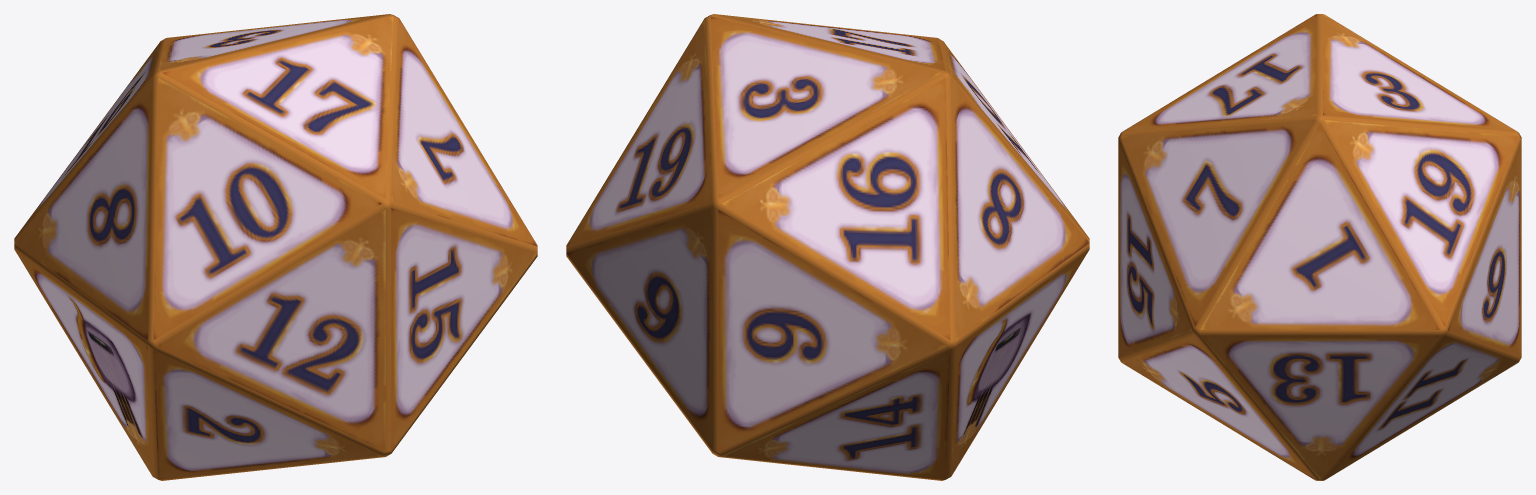
Rendered from d20-urik.glb.
The picture shows the model from 3 angles, left to right: view 1: azimuth 30°, elevation 25°; view 2: azimuth 150°, elevation 25°; view 3: azimuth 270°, elevation 25°; orthographic projection. The views are drawn at different scales.
Parts seen in each view (by area): view 1: Mesh_0; view 2: Mesh_0; view 3: Mesh_0.
Part boxes in pixels (<box>): Mesh_0: <box>14,14,537,480</box>; Mesh_0: <box>566,14,1089,480</box>; Mesh_0: <box>1118,14,1521,480</box>.
Bounding box in the file's own units: 169 × 169 × 169.
Materials: 1 (1 with a texture image).
